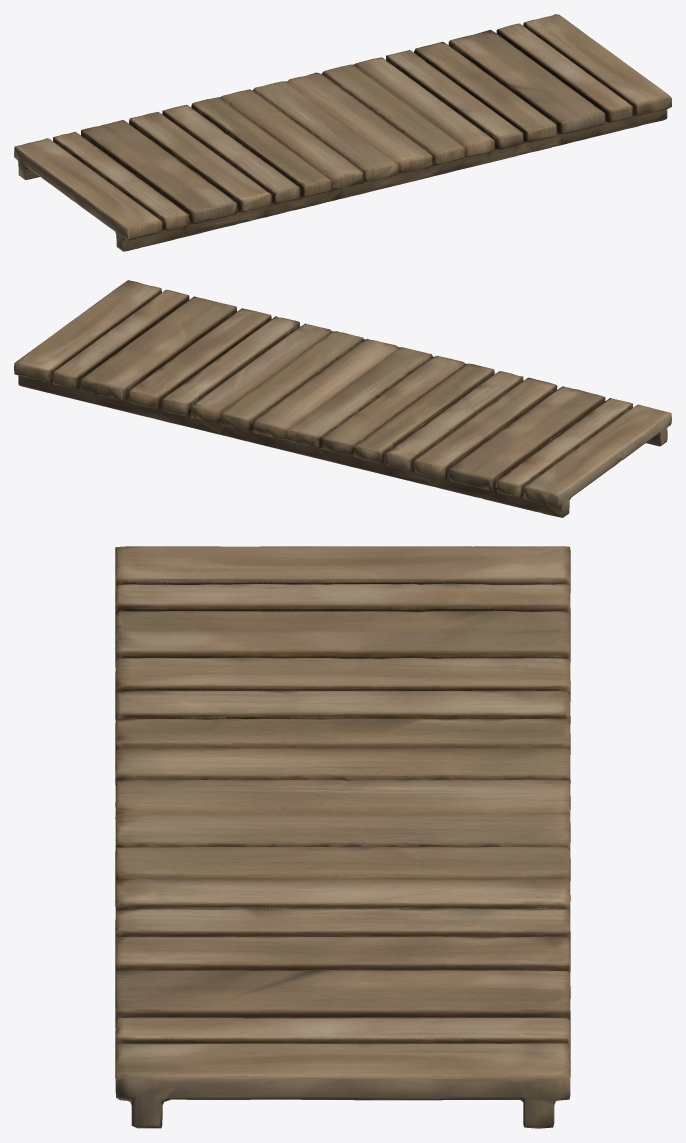
The model's file is wooden-pallet-optimized.glb.
3 renders of one model, top to bottom at view 1: azimuth 30°, elevation 25°; view 2: azimuth 150°, elevation 25°; view 3: azimuth 270°, elevation 25°, orthographic. The views are drawn at different scales.
Bounding box in the file's own units: 1.92 × 0.0889 × 0.6938.
Materials: 1 (1 with a texture image).
